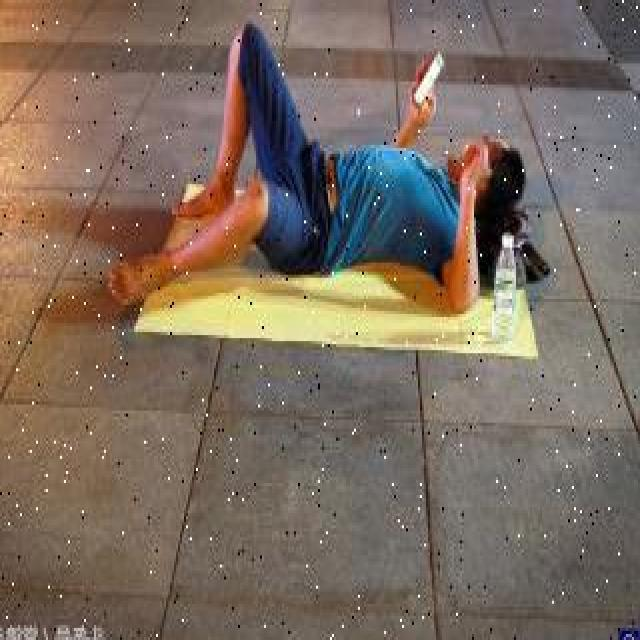fall: (120, 45, 516, 305)
